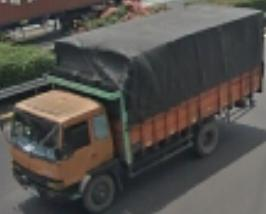truck: (1, 85, 131, 214)
